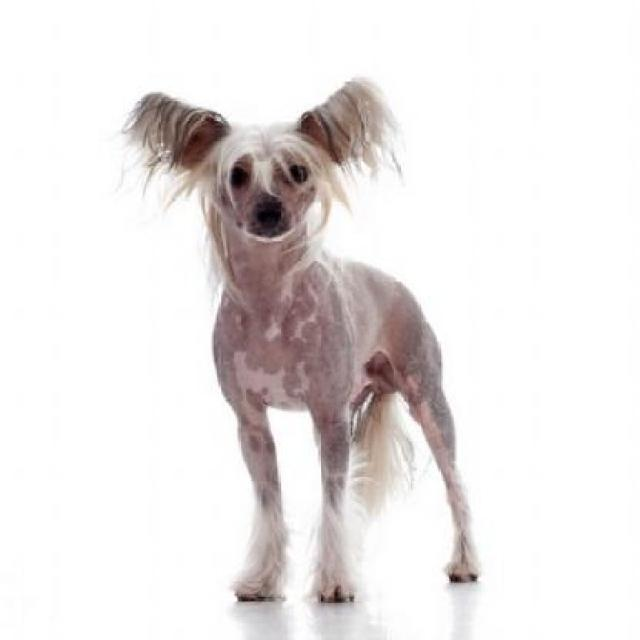animals: (101, 51, 502, 617)
